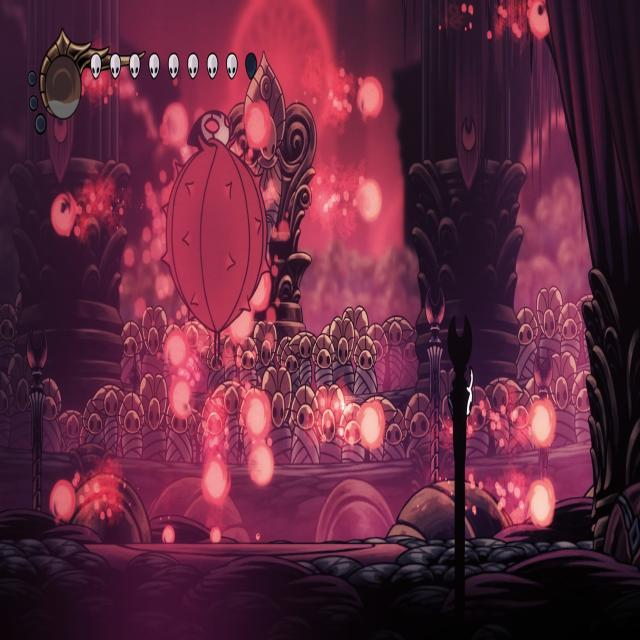Player: (446, 366, 475, 423)
Pufferfish: (158, 107, 274, 367)
Tiny Fireballs: (244, 103, 273, 156), (245, 391, 273, 440), (357, 400, 384, 450), (202, 458, 230, 505), (528, 480, 555, 528), (528, 399, 555, 447), (162, 102, 190, 148), (50, 480, 77, 524), (52, 191, 77, 237), (250, 443, 276, 485), (358, 180, 382, 223), (358, 77, 382, 119), (248, 270, 271, 312), (528, 0, 551, 41), (165, 330, 189, 368), (170, 379, 192, 420), (231, 306, 254, 344)
